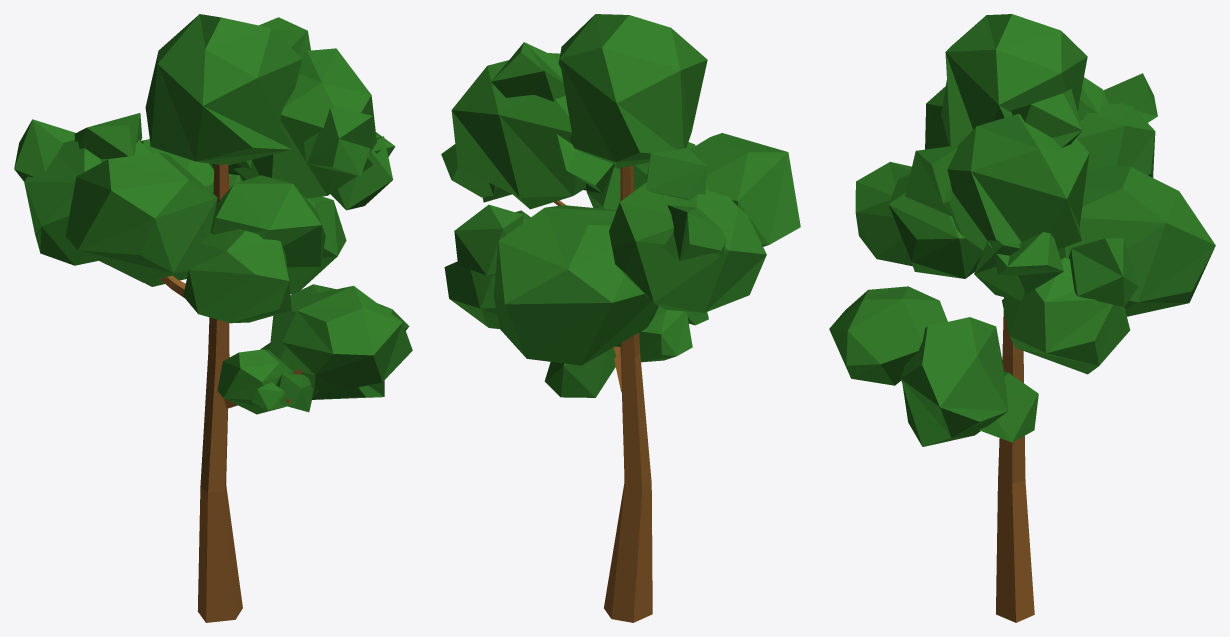
File: Tree02.FBX
3 renders of one model, left to right at view 1: azimuth 30°, elevation 25°; view 2: azimuth 150°, elevation 25°; view 3: azimuth 270°, elevation 25°, orthographic.
Parts seen in each view (by area): view 1: Leaf014, Leaf004, Leaf012, Leaf008, Leaf003, Trunk, Leaf011, Leaf010, Leaf009, Leaf013, Leaf015, Leaf007 (+2 smaller); view 2: Leaf007, Leaf014, Leaf003, Leaf004, Trunk, Leaf012, Leaf006, Leaf015, Leaf005, Leaf009, Leaf010; view 3: Leaf004, Leaf007, Leaf014, Leaf013, Leaf015, Leaf008, Trunk, Leaf003, Leaf010, Leaf011, Leaf006, Leaf005 (+1 smaller).
Part boxes in pixels (x1,y1,x2,y2): Leaf014: [145, 14, 302, 165]; Leaf004: [209, 17, 395, 210]; Leaf012: [65, 152, 217, 282]; Leaf008: [282, 285, 412, 391]; Leaf003: [14, 113, 151, 265]; Trunk: [197, 164, 242, 622]; Leaf011: [183, 229, 291, 323]; Leaf010: [210, 175, 325, 294]; Leaf009: [217, 349, 293, 414]; Leaf013: [269, 284, 409, 399]; Leaf015: [295, 196, 346, 292]; Leaf007: [141, 139, 242, 286]; Leaf007: [494, 205, 658, 365]; Leaf014: [558, 14, 707, 168]; Leaf003: [609, 148, 766, 312]; Leaf004: [441, 42, 614, 209]; Trunk: [604, 165, 652, 622]; Leaf012: [689, 133, 800, 246]; Leaf006: [454, 204, 523, 275]; Leaf015: [444, 210, 530, 328]; Leaf005: [544, 347, 616, 397]; Leaf009: [639, 306, 692, 362]; Leaf010: [586, 142, 695, 209]; Leaf004: [905, 89, 1089, 301]; Leaf007: [1058, 166, 1215, 316]; Leaf014: [941, 14, 1087, 146]; Leaf013: [900, 317, 1008, 446]; Leaf015: [1002, 257, 1130, 374]; Leaf008: [829, 286, 947, 385]; Trunk: [996, 297, 1034, 622]; Leaf003: [1076, 73, 1157, 177]; Leaf010: [888, 174, 983, 278]; Leaf011: [855, 162, 912, 266]; Leaf006: [1068, 238, 1138, 306]; Leaf005: [979, 371, 1038, 442].
Size of the model in its own units: 30.86 by 53.32 by 31.28.
